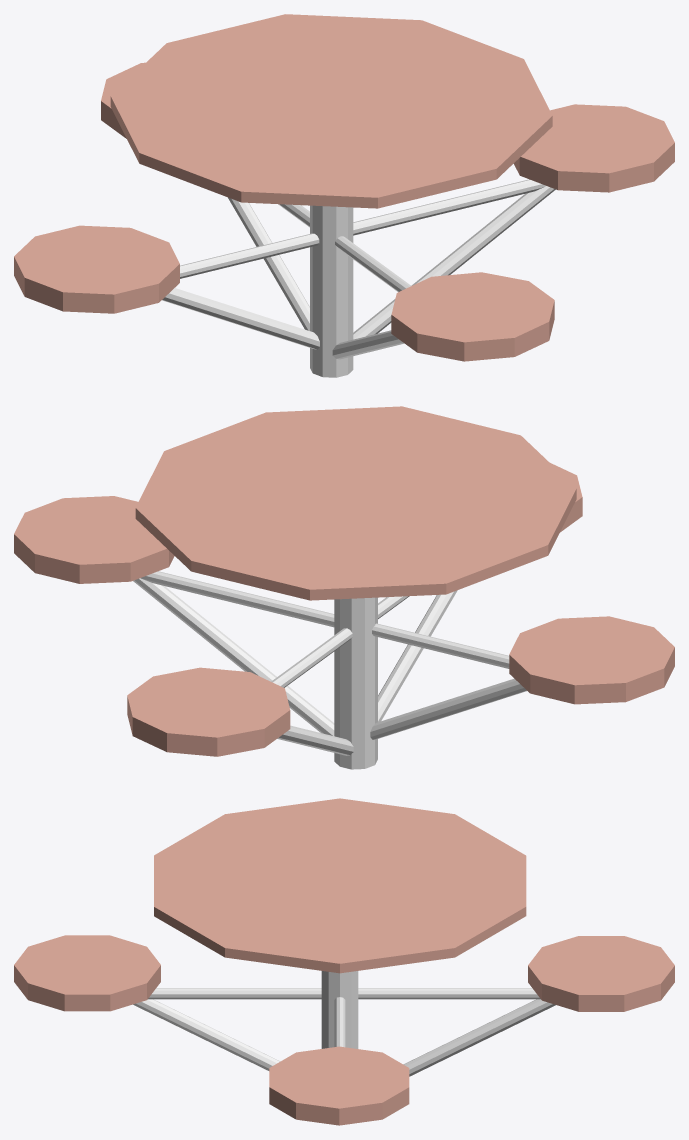
Rendered from table2.fbx.
3 views of the same model, one above another, from view 1: azimuth 30°, elevation 25°; view 2: azimuth 150°, elevation 25°; view 3: azimuth 270°, elevation 25° (orthographic). The views are drawn at different scales.
Parts seen in each view (by area): view 1: Cylinder_6; view 2: Cylinder_6; view 3: Cylinder_6.
Part boxes in pixels (x1=…): Cylinder_6: x1=14, y1=14, x2=674, y2=377; Cylinder_6: x1=14, y1=406, x2=674, y2=769; Cylinder_6: x1=14, y1=798, x2=674, y2=1125.
Size of the model in its own units: 258 by 101 by 262.
